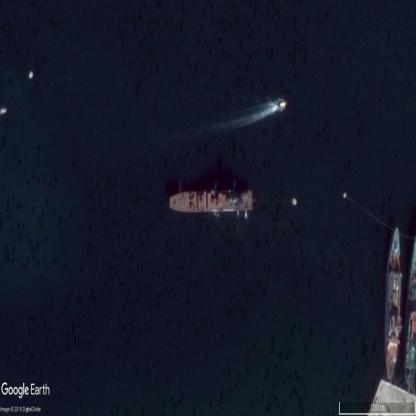ship: (382, 226, 402, 381), (169, 189, 252, 213)
